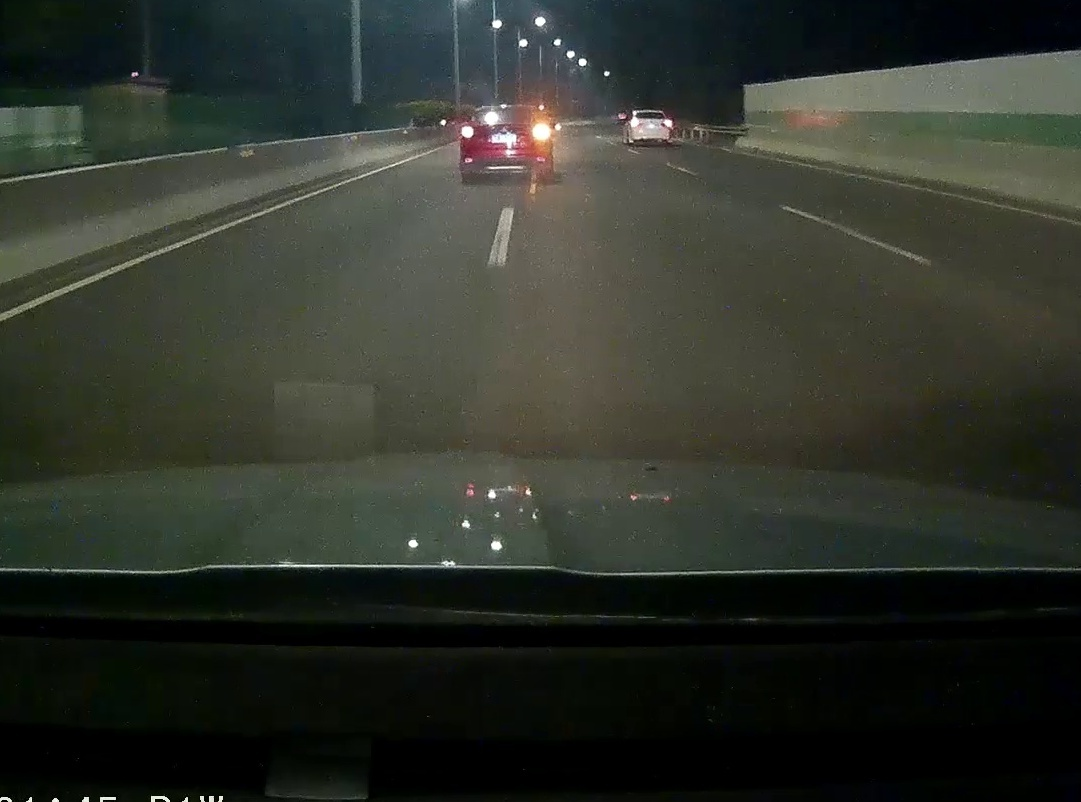L_light: (461, 126, 473, 139), (631, 117, 639, 128)
R_light: (533, 123, 551, 141), (663, 119, 672, 128)
T_light: (500, 109, 513, 111), (647, 112, 654, 113)
night-no: (630, 110, 673, 146)
night-right: (459, 105, 552, 184)
